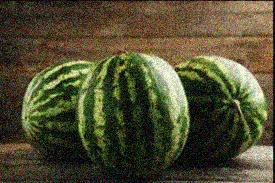watermelon: (78, 49, 189, 171), (22, 54, 104, 163), (188, 56, 267, 167)
